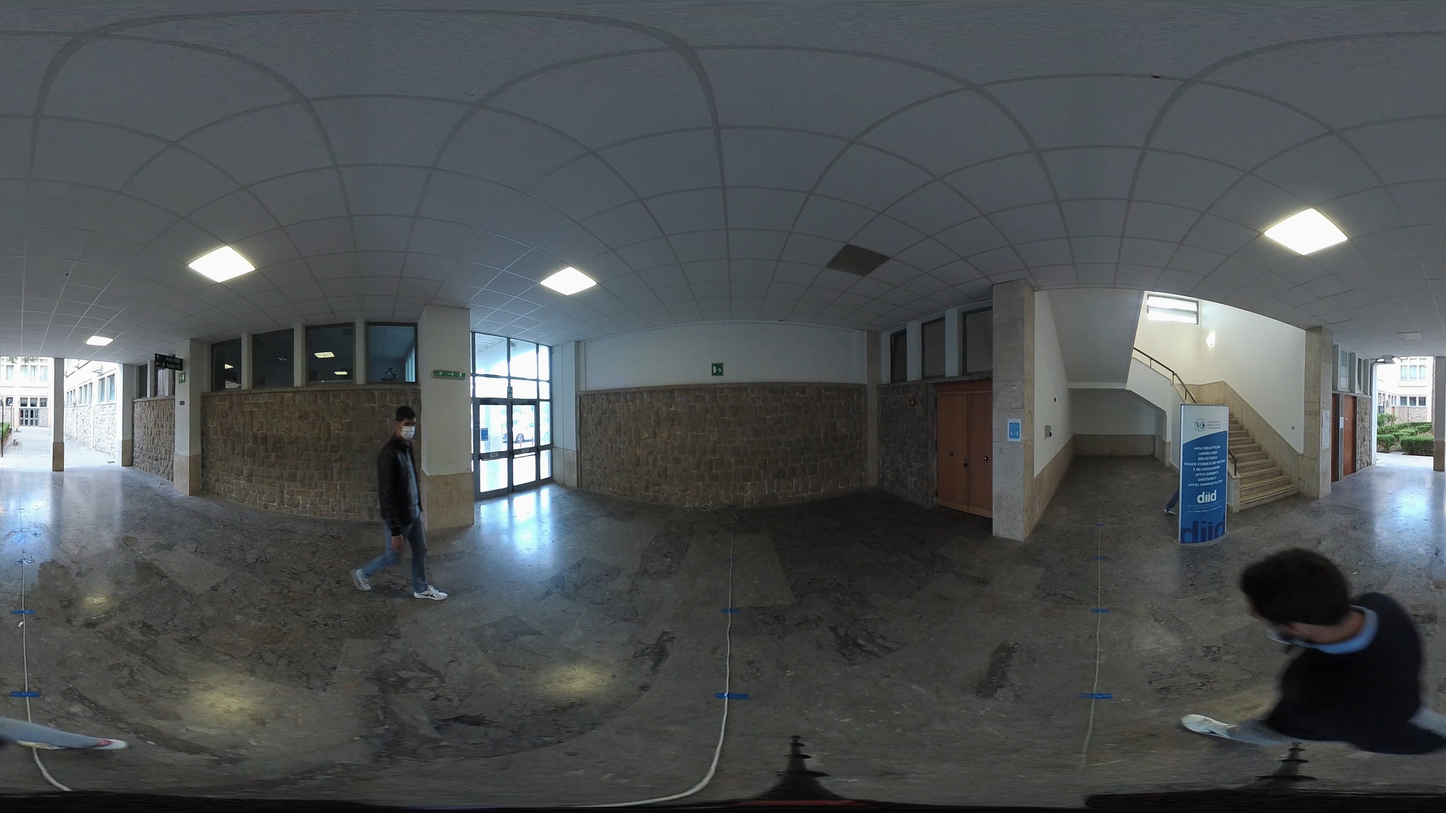Person: (351, 405, 447, 601)
